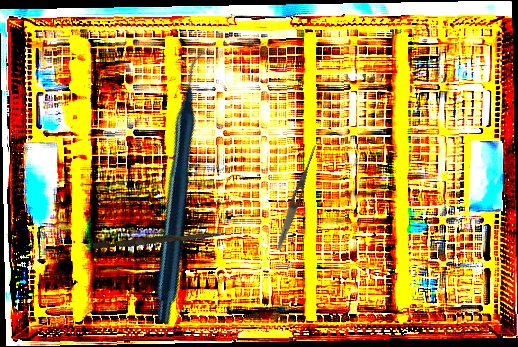Dressing Forceps: (274, 143, 319, 252)
Handpiece: (47, 49, 322, 327)
Pusher: (92, 226, 227, 253)
